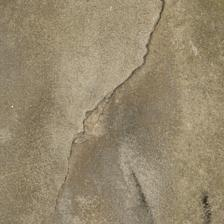Crack: (29, 2, 139, 201)
